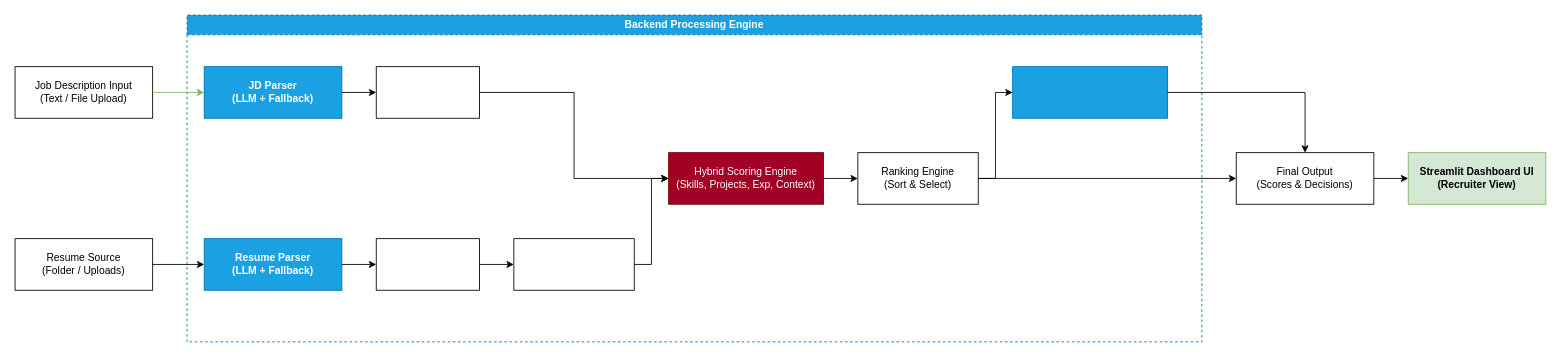
Image size: 1561x357. Some labels were removed from this diagram. Each missing label, with the centre of its shape:
Caching Layer (JSON Cache): [427,264]
LLM Interest Simulator (Top K Candidates): [1089,92]
Structured Candidates (Data Objects): [573,264]
Structured JD (JSON): [427,92]
